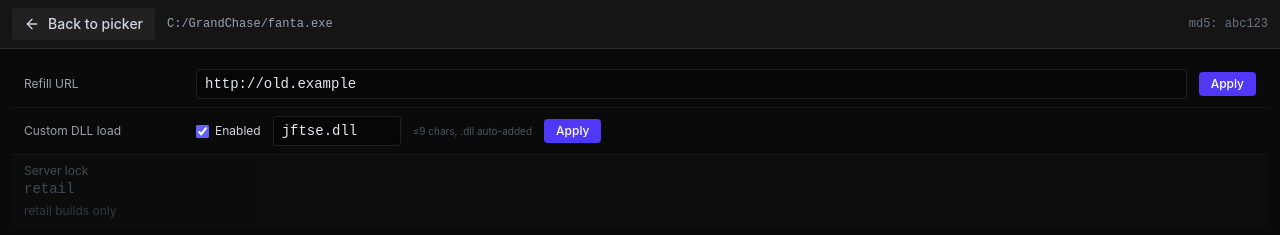
ExePanel › apply success toasts and shows the fresh md5
Click the button with aria-label "Apply Custom DLL load" at coordinates (573, 131), box [544,119,601,143]
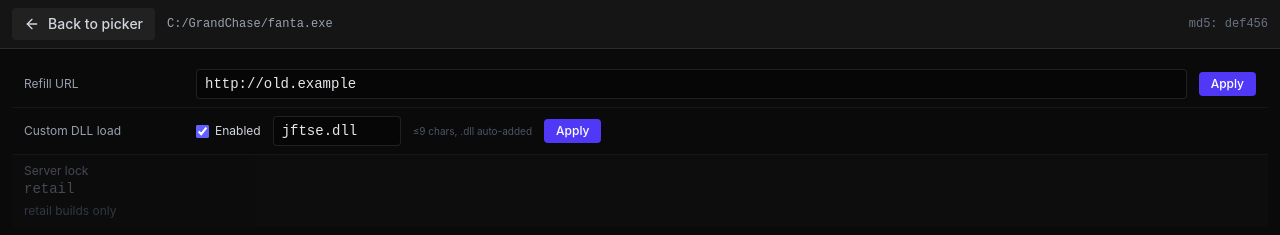
Result: the text "md5: def456" is shown at [1189,16,1268,32]
